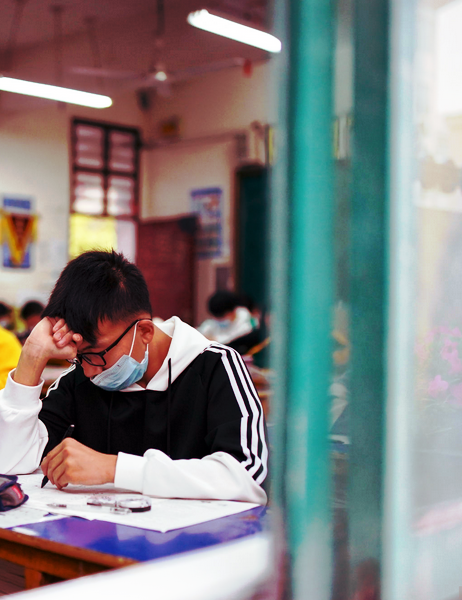mask_weared_incorrect: (59, 254, 147, 391)
